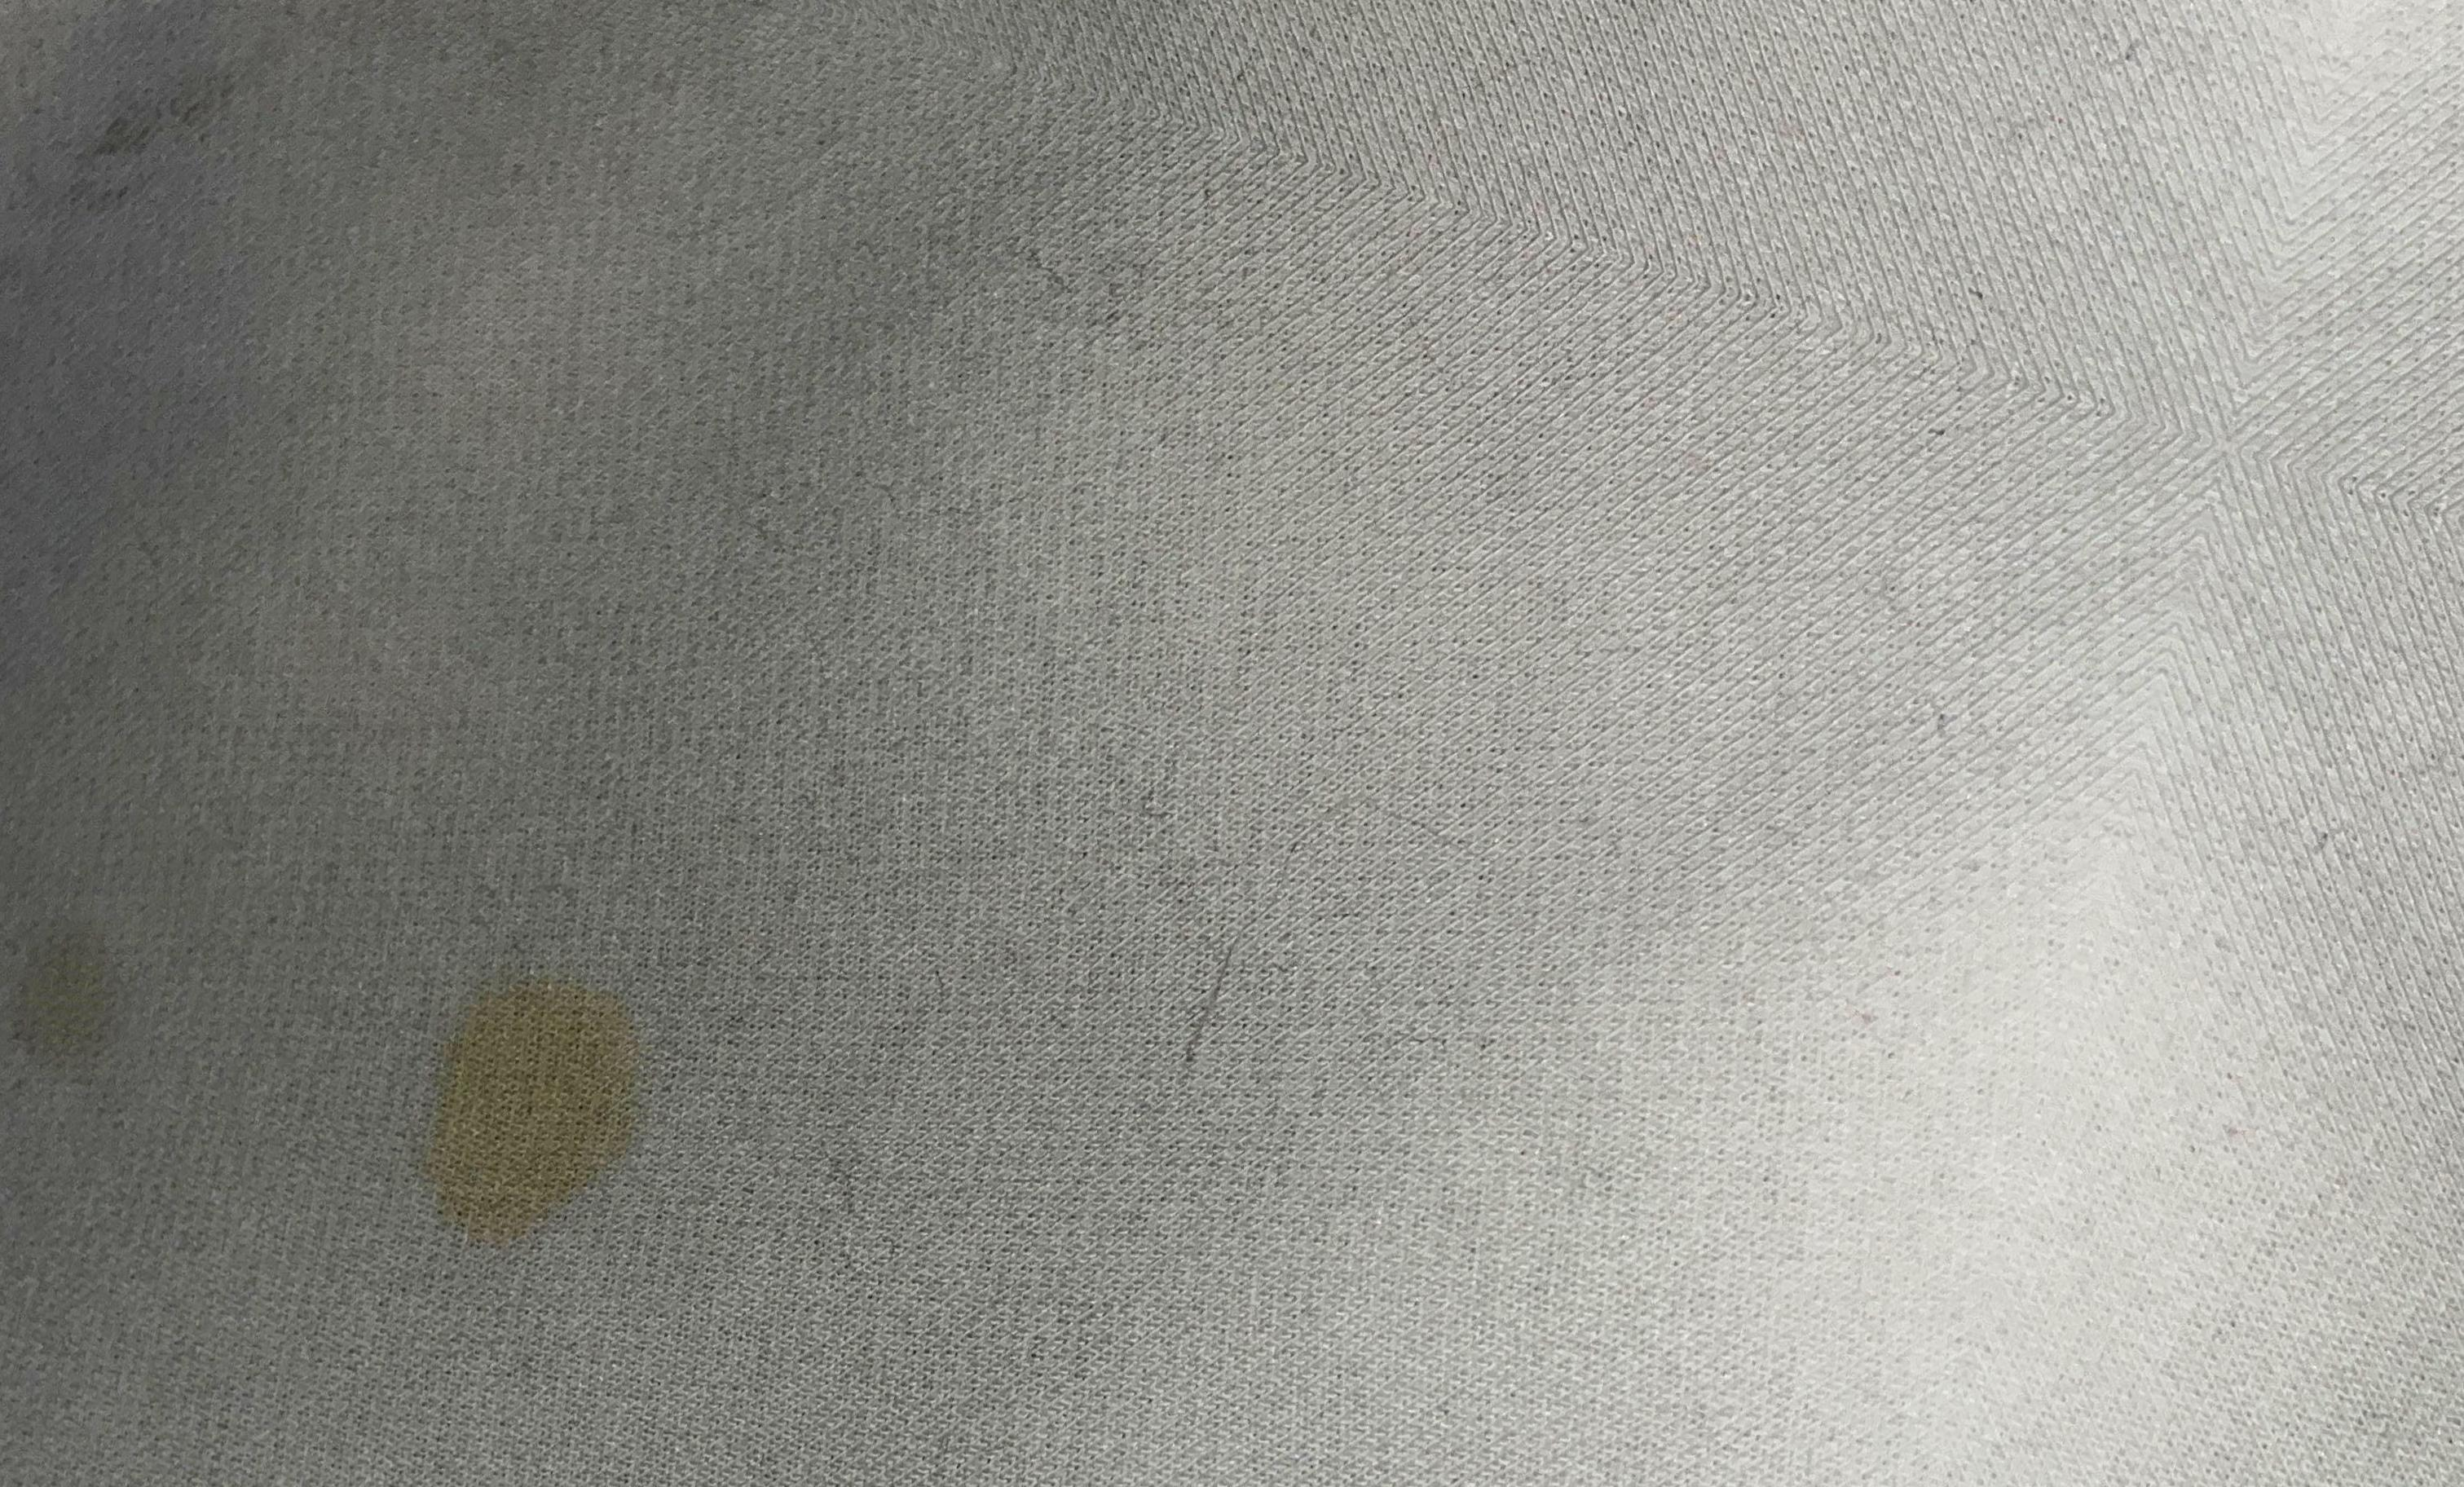stain: (385, 957, 669, 1249), (0, 903, 151, 1093)
